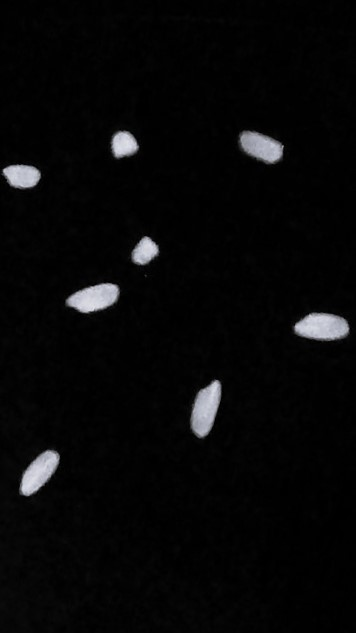broken_grain: (237, 126, 286, 171), (106, 126, 139, 164), (130, 232, 161, 272), (3, 163, 45, 192)
complete_grain: (186, 377, 225, 445), (18, 446, 63, 502), (61, 279, 122, 320), (293, 309, 352, 348)
